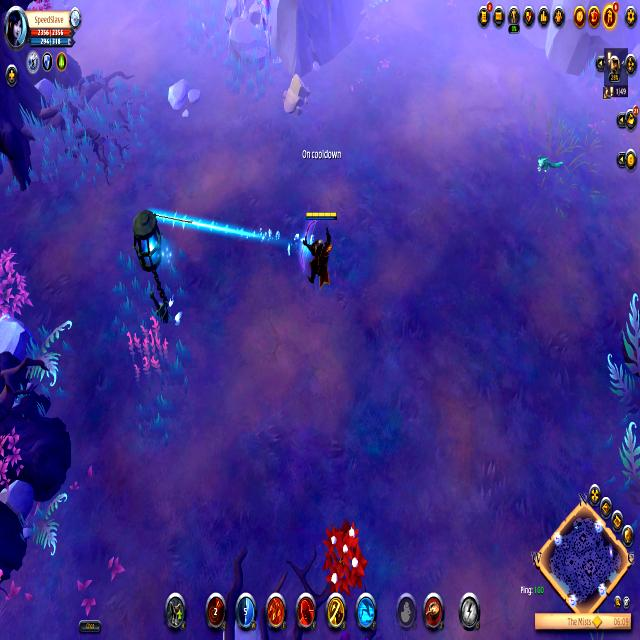10: (129, 206, 176, 334)
hide: (321, 514, 368, 606)
red: (298, 204, 340, 294)
